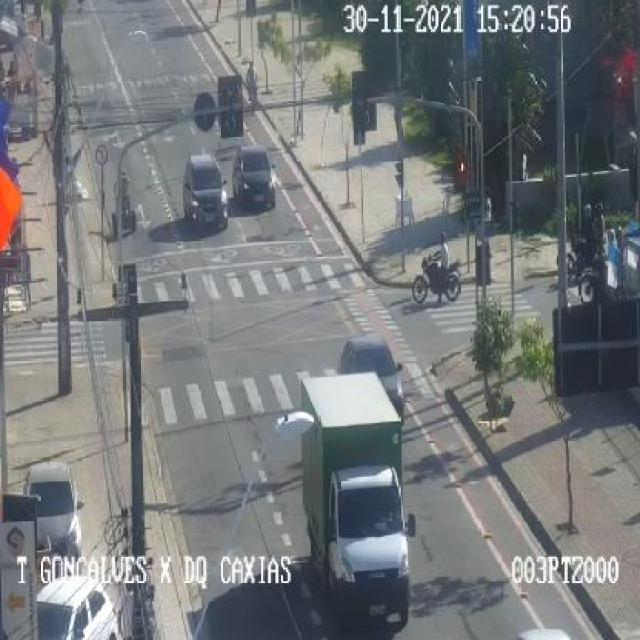Car: (20, 460, 89, 565), (35, 572, 125, 640), (339, 336, 406, 418), (182, 154, 230, 228), (231, 145, 276, 210)
Cycle: (411, 252, 463, 306), (576, 258, 627, 306)
Truck: (299, 370, 420, 639)
